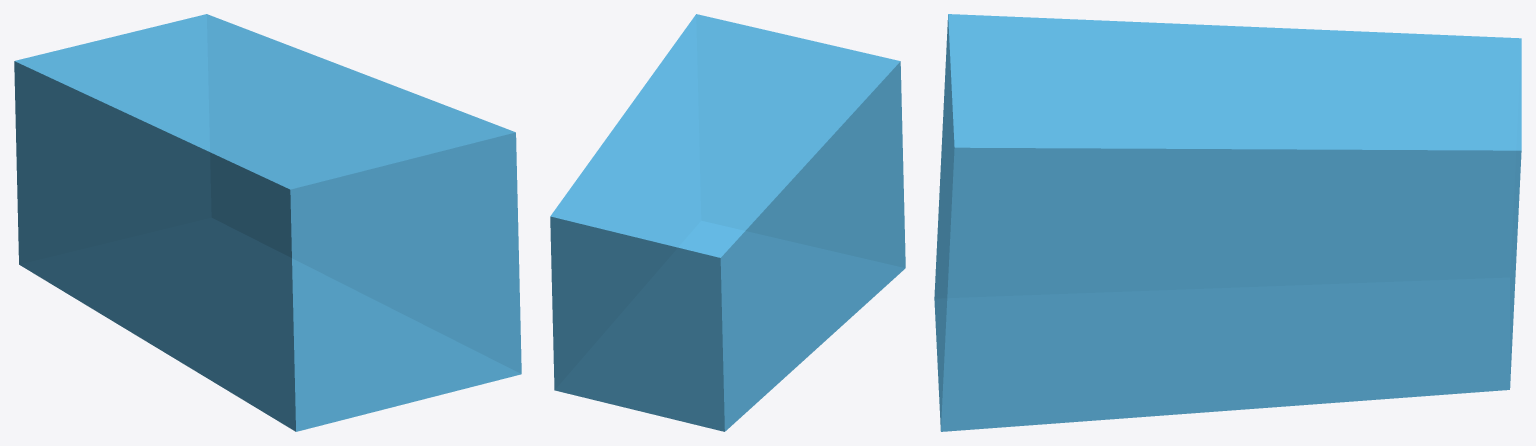
The model's file is Event_420107950_HBrechit_14.fbx.
3 renders of one model, left to right at view 1: azimuth 30°, elevation 25°; view 2: azimuth 150°, elevation 25°; view 3: azimuth 270°, elevation 25°, orthographic. The views are drawn at different scales.
Parts seen in each view (by area): view 1: Model; view 2: Model; view 3: Model.
Part boxes in pixels (x1,y1,x2,y2): Model: (14,14,521,431); Model: (550,14,905,431); Model: (934,14,1521,431).
Size of the model in its own units: 0.5554 by 0.4776 by 0.8925.
